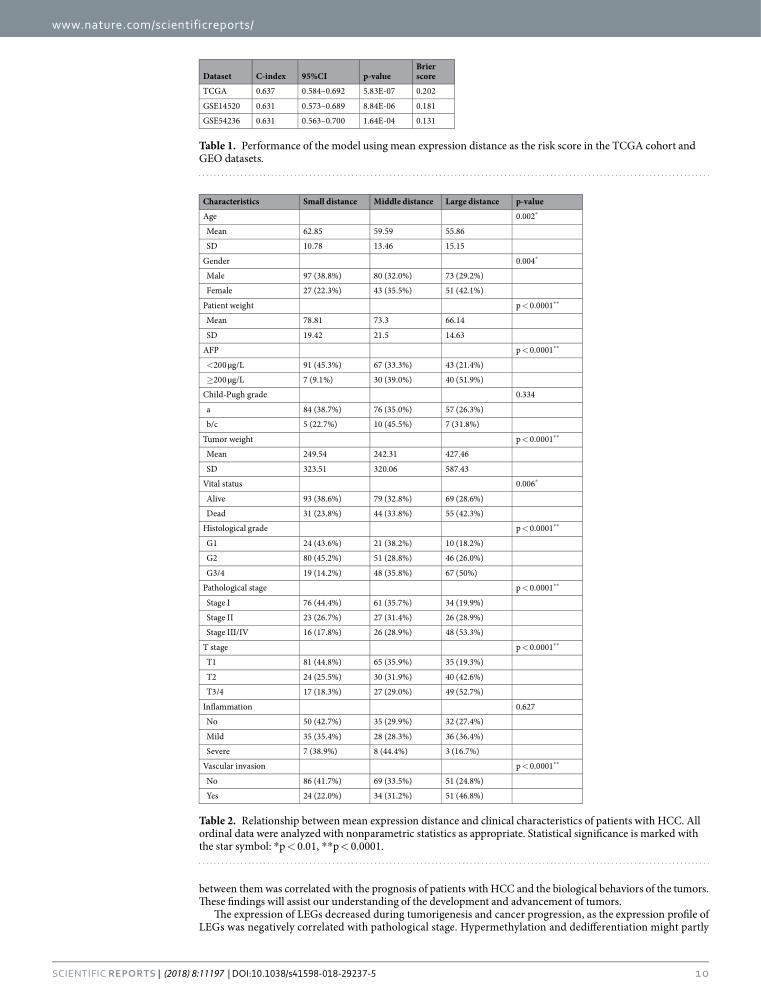table: (202, 195, 558, 801), (202, 60, 435, 126)
